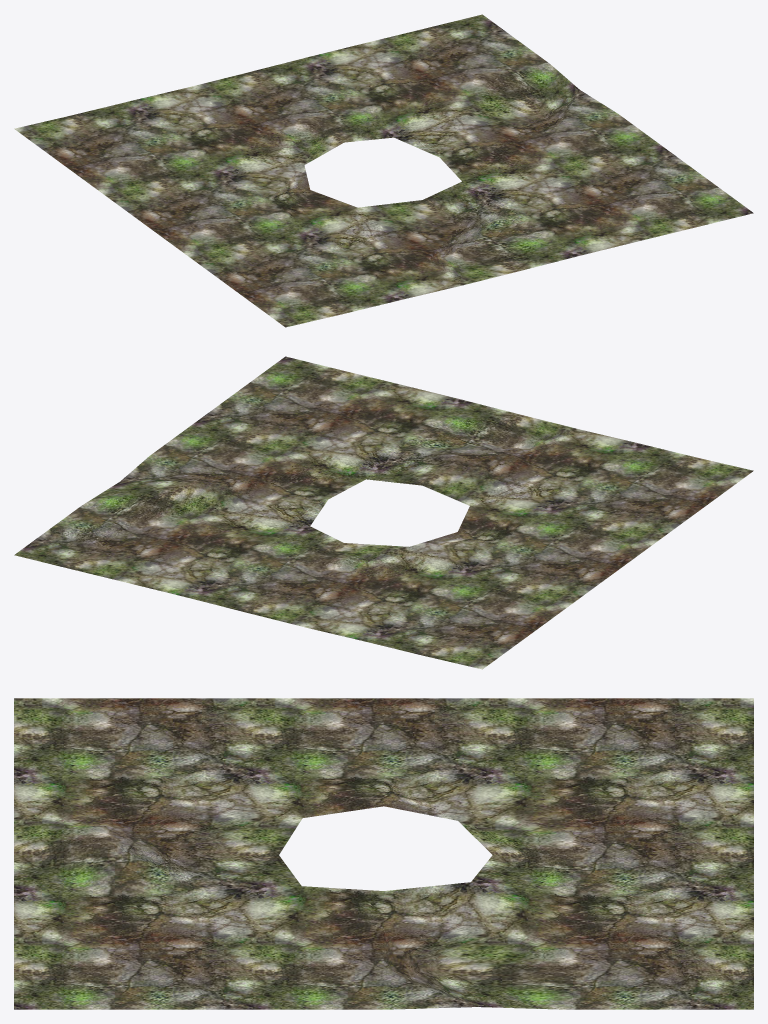
3 renders of one model, top to bottom at view 1: azimuth 30°, elevation 25°; view 2: azimuth 150°, elevation 25°; view 3: azimuth 270°, elevation 25°, orthographic. The views are drawn at different scales.
Visible parts, largest first — view 1: Plane01; view 2: Plane01; view 3: Plane01.
Boxes of the visible parts, bbox=[...] form: Plane01: bbox=[14, 14, 753, 327]; Plane01: bbox=[14, 356, 753, 669]; Plane01: bbox=[14, 698, 753, 1009].
Size of the model in its own units: 2112 by 5.32 by 2119.
